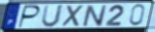0: (128, 3, 146, 28)
2: (104, 4, 126, 27)
N: (82, 4, 108, 28)
P: (17, 5, 42, 30)
U: (40, 4, 66, 29)
X: (61, 4, 86, 28)
